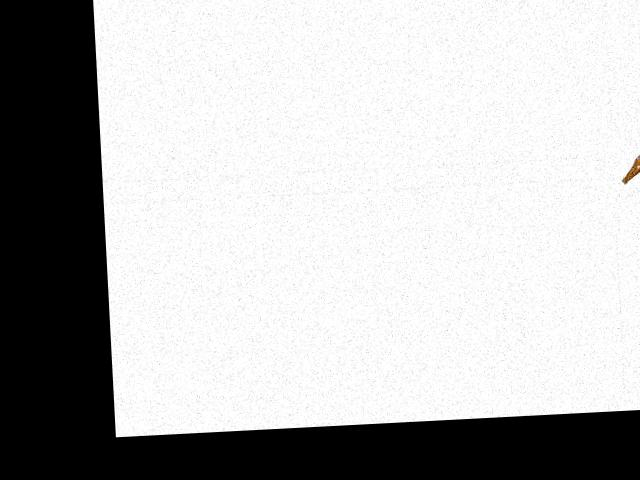beer: (619, 134, 640, 183)
